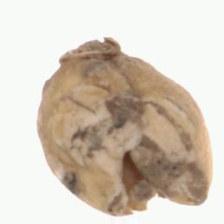L1: (117, 151, 202, 217), (58, 35, 124, 63)
L2: (36, 37, 214, 217)
